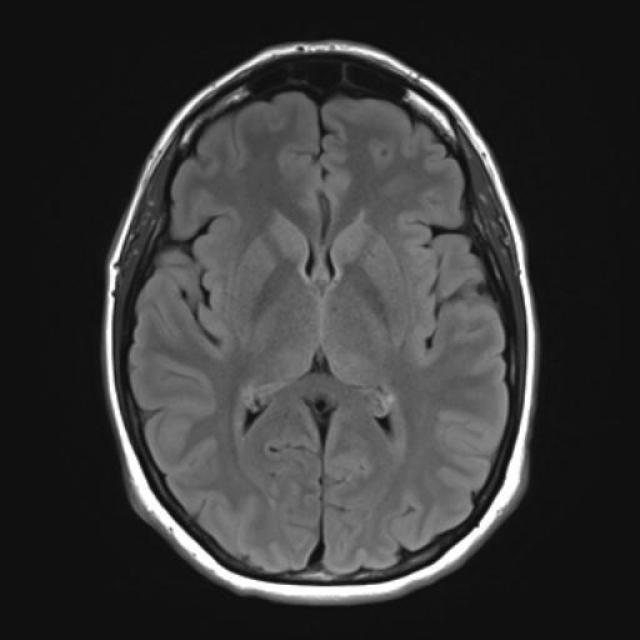no-tumor: (168, 131, 462, 491)
